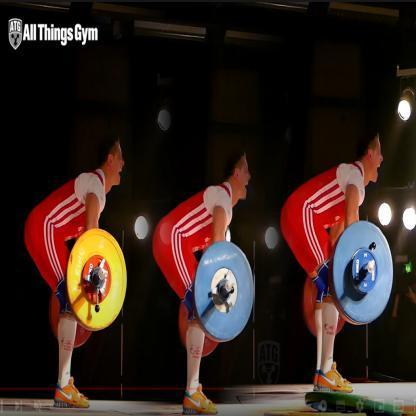barbell: (303, 220, 395, 338), (50, 228, 127, 349), (178, 239, 256, 357)
